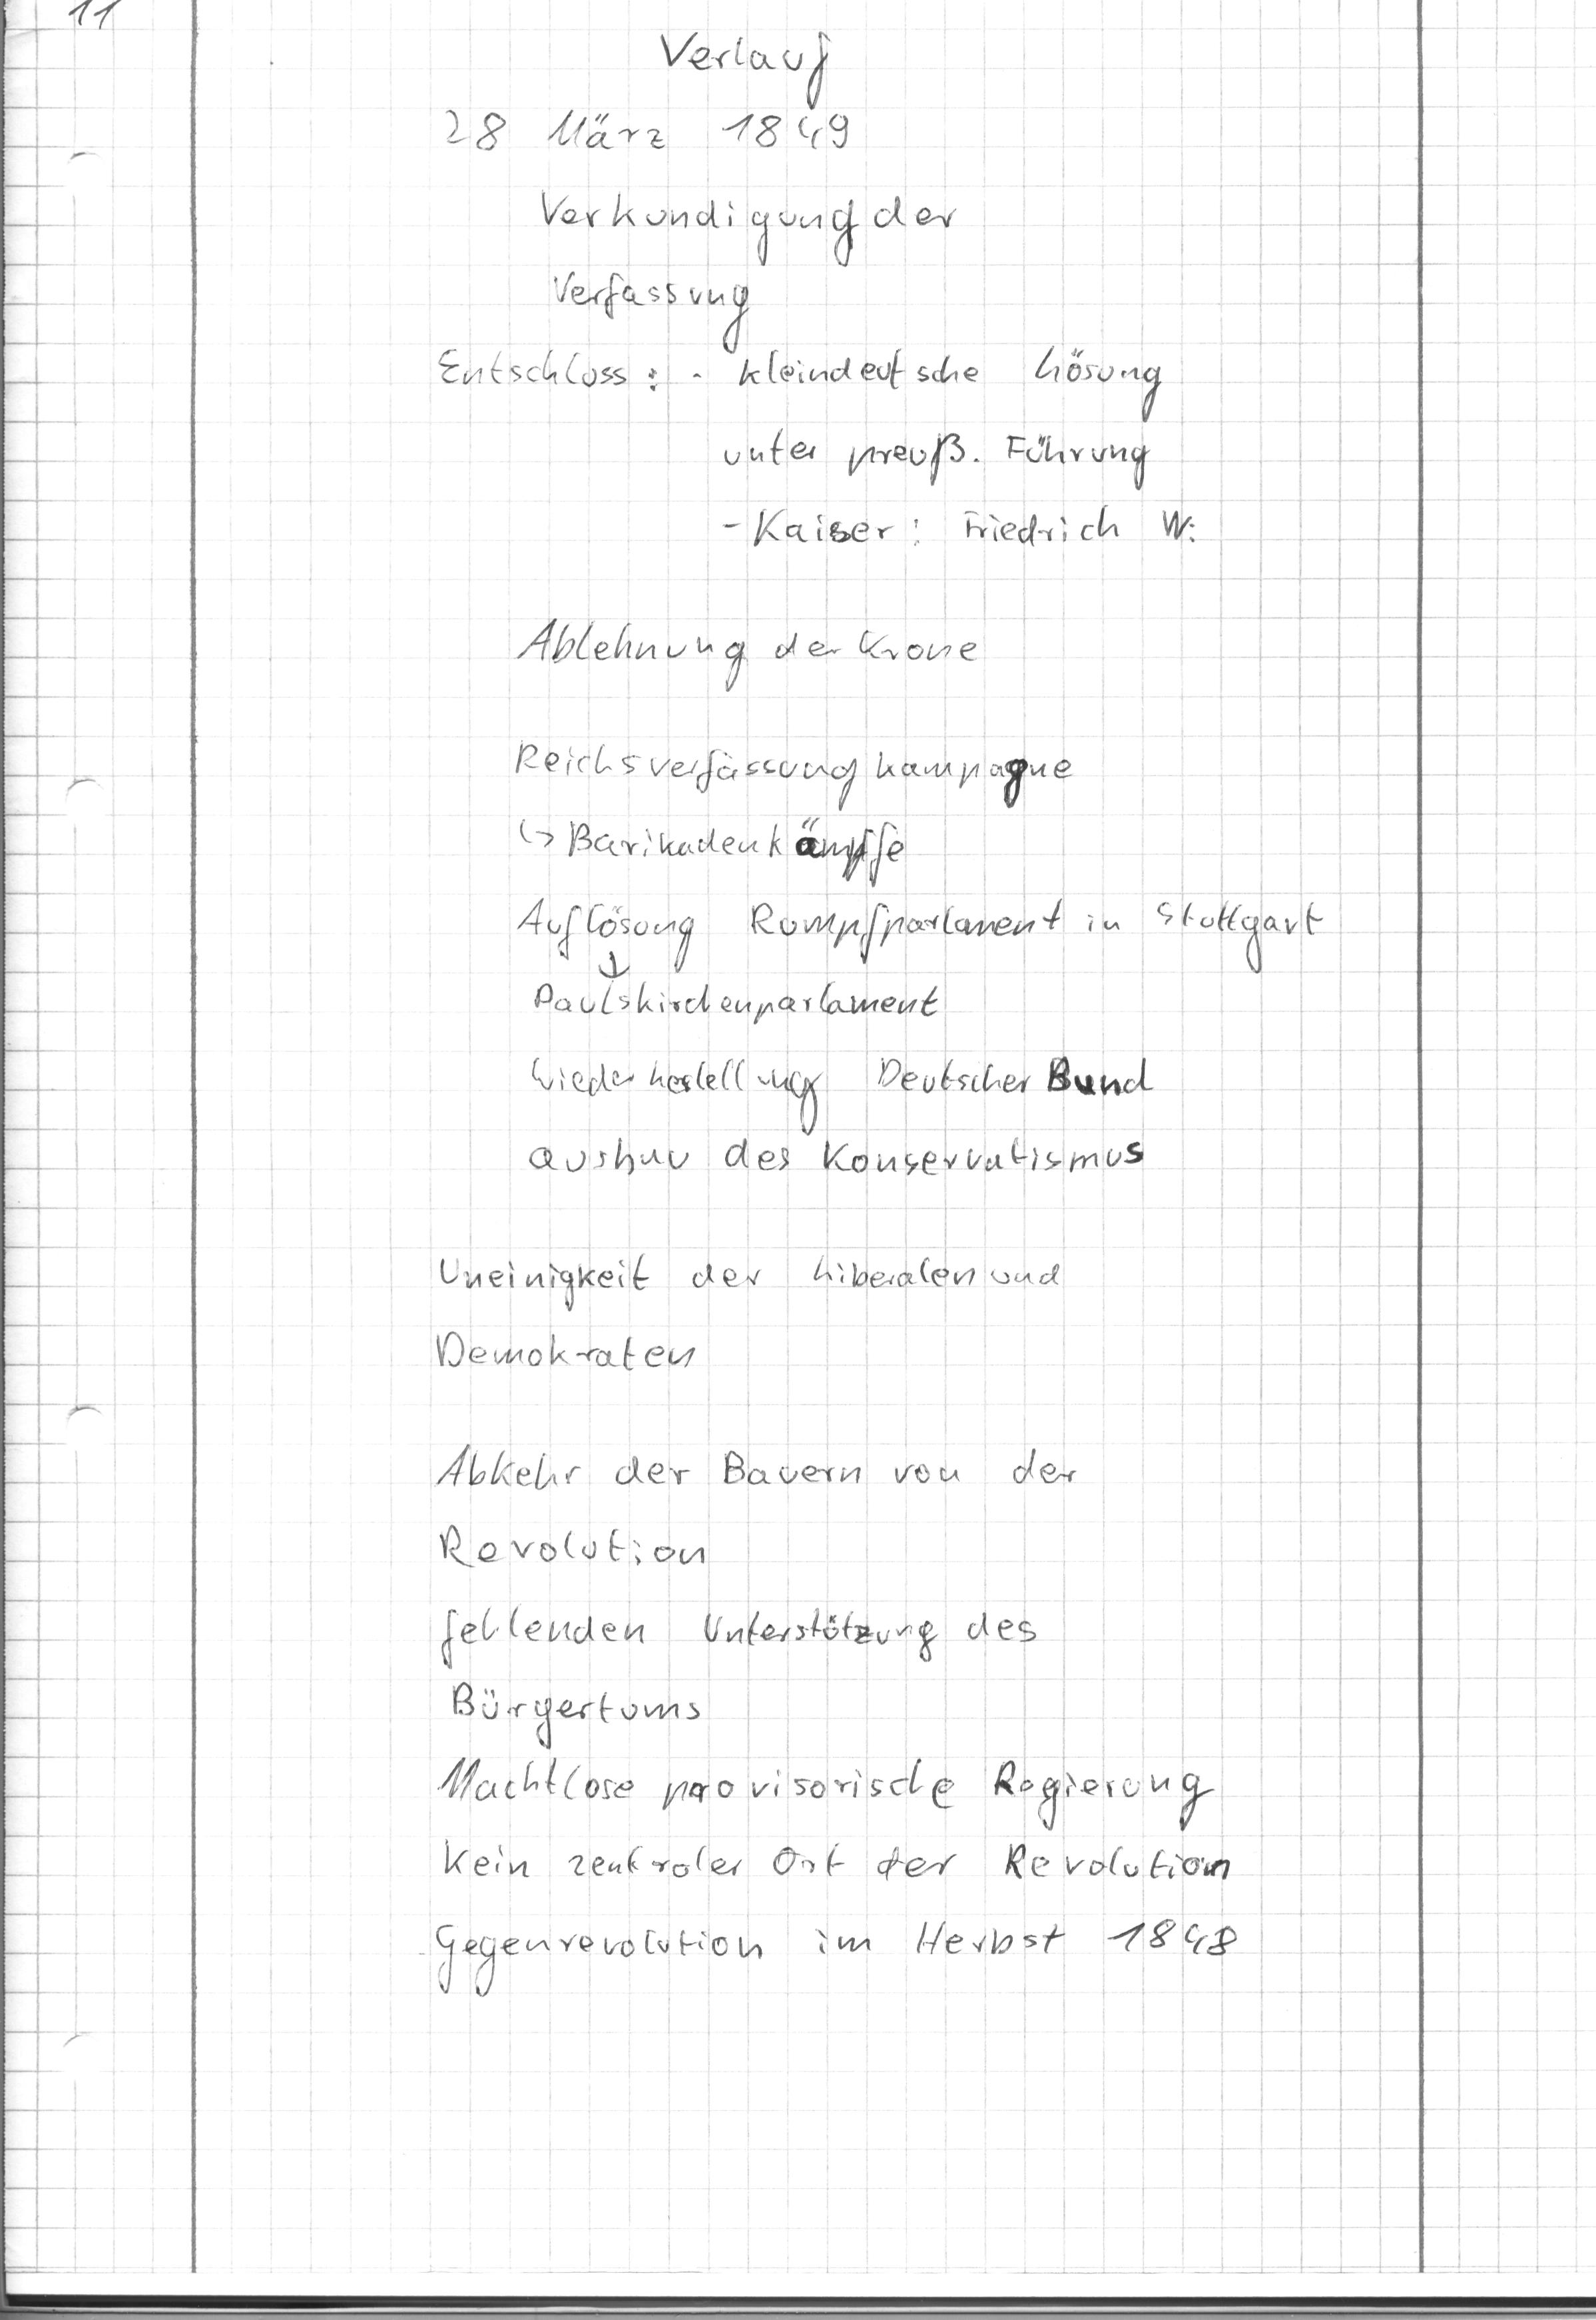word: (428, 340, 1209, 558), (509, 886, 1326, 1037), (499, 723, 1074, 896), (426, 1598, 1050, 1751), (517, 1046, 1157, 1188), (428, 1912, 1246, 2023), (428, 1247, 1066, 1376), (533, 168, 960, 350), (401, 1742, 1221, 1836), (436, 23, 862, 162), (424, 1833, 1234, 1905), (424, 1437, 1091, 1517), (509, 597, 999, 701), (416, 1506, 721, 1582)
